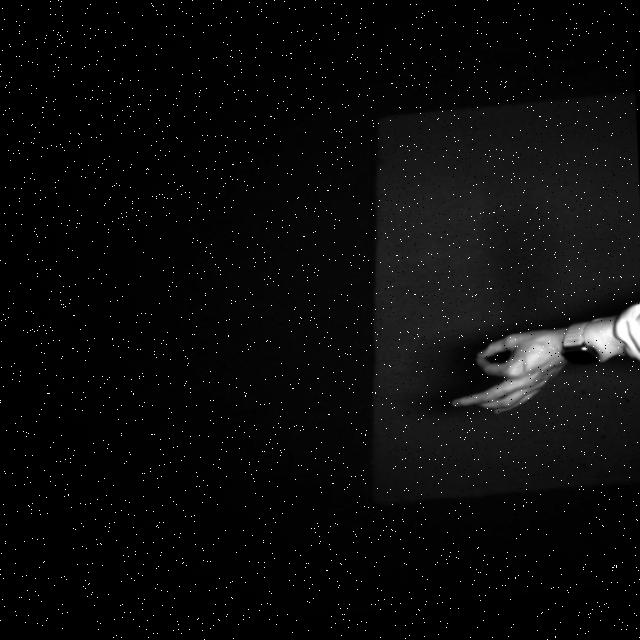hand: (440, 318, 573, 429)
